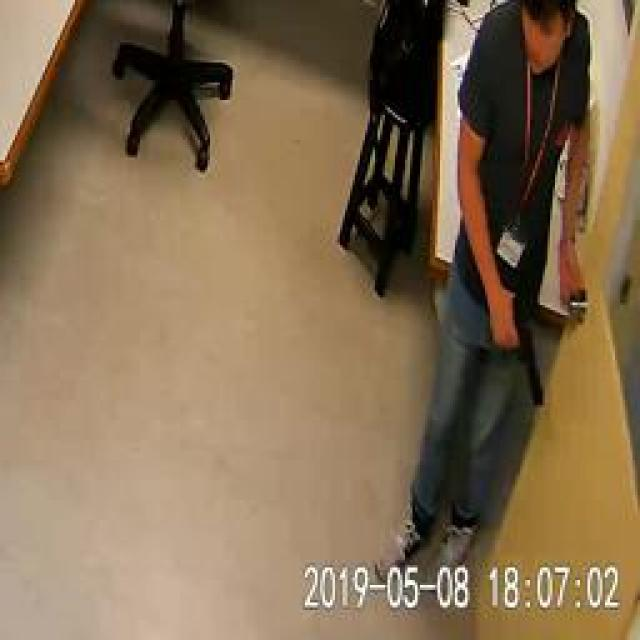Guns: (483, 278, 563, 417)
